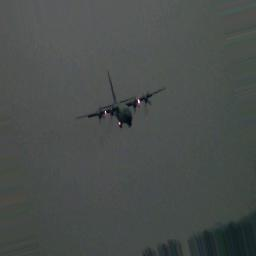Airplane: (75, 72, 169, 131)
